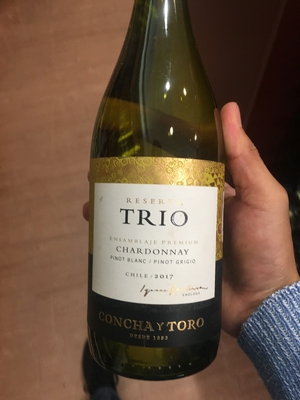trio chardonnay: (82, 10, 233, 382)
